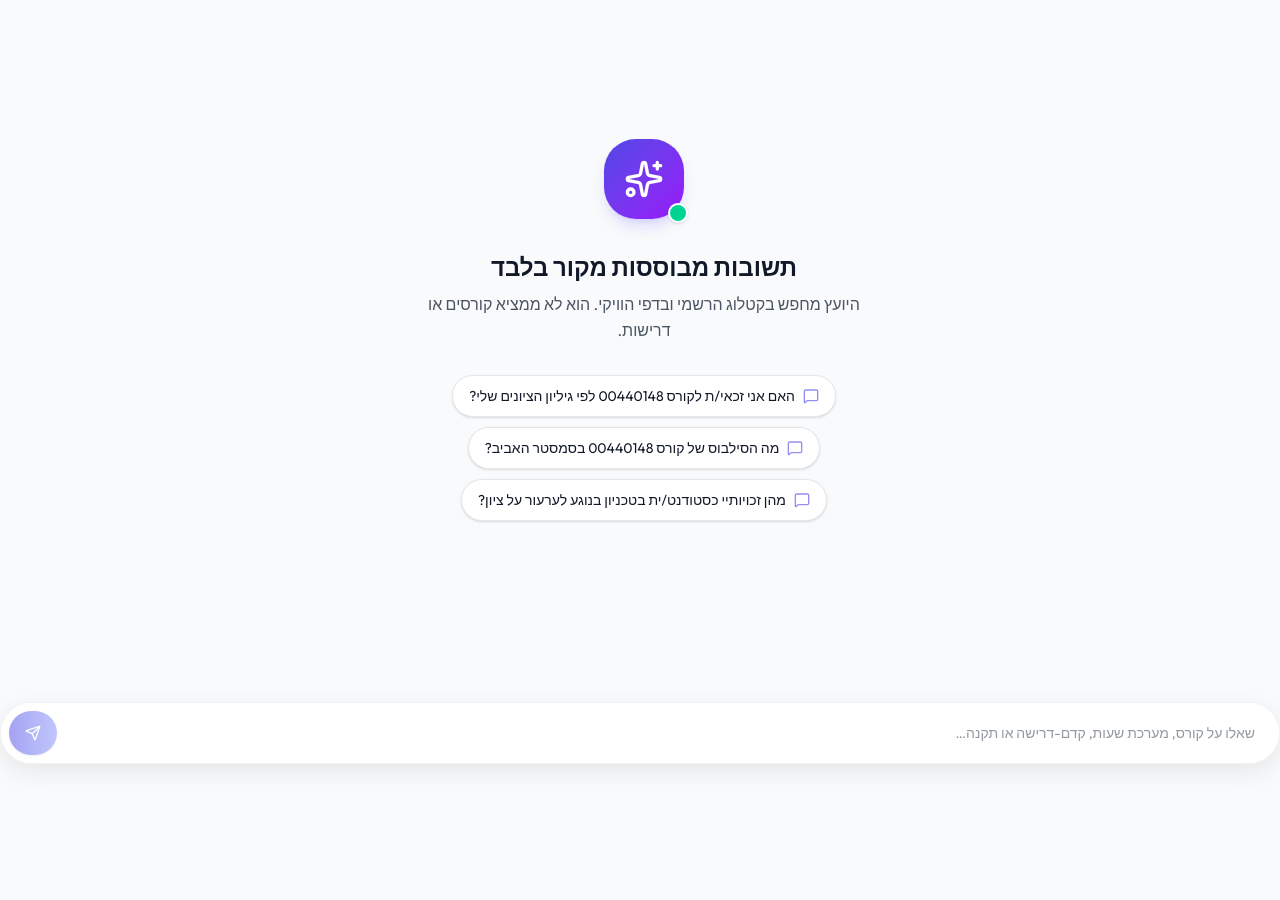
Test: AdvisorPage › shows a translated message when the stream fails before any answer
Type "How many credits do I have left?" into the field with test id "advisor-input". click: (668, 733)
box: left=65, top=711, right=1271, bottom=755
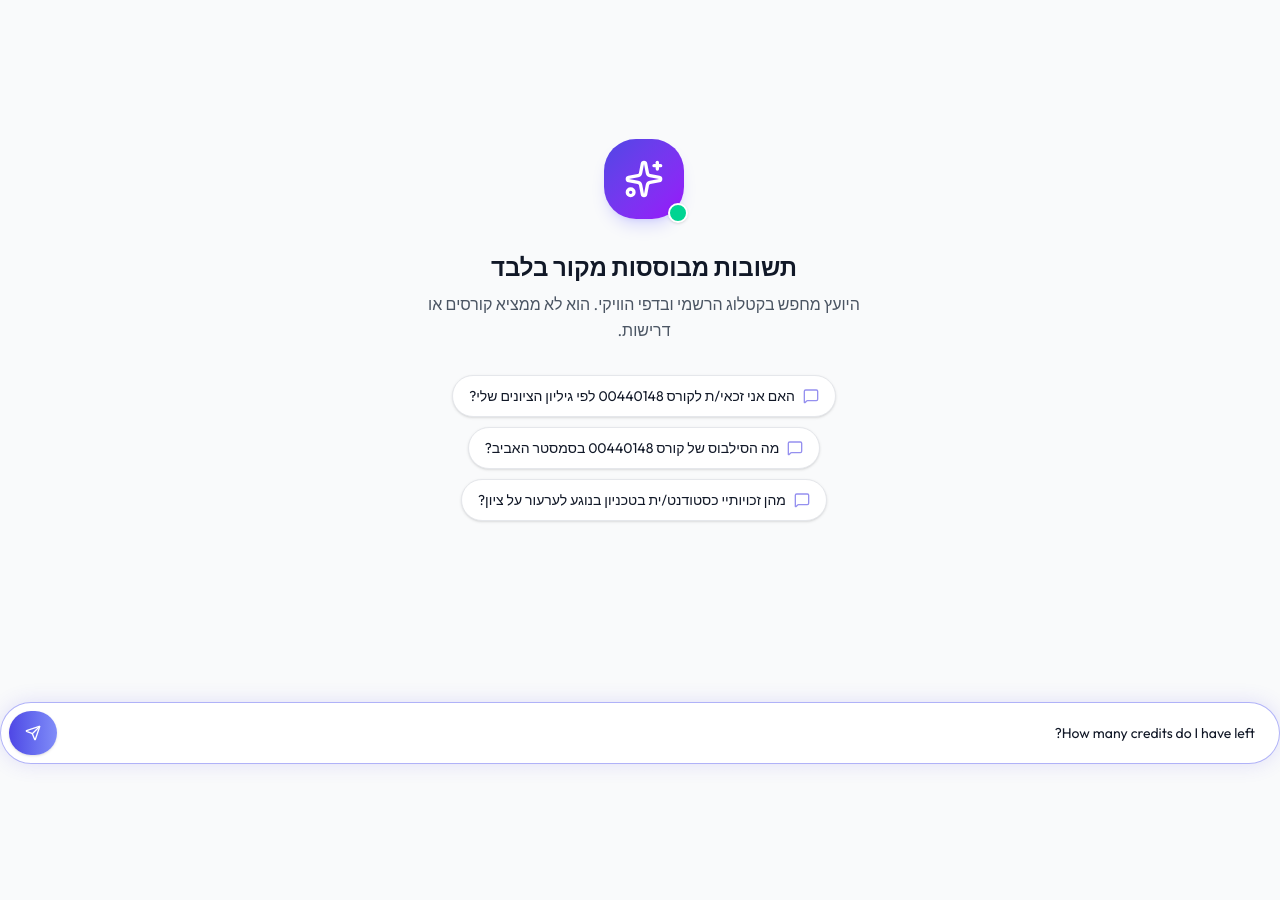
Click the button with test id "advisor-submit". click: (33, 733)
box: left=9, top=711, right=57, bottom=755
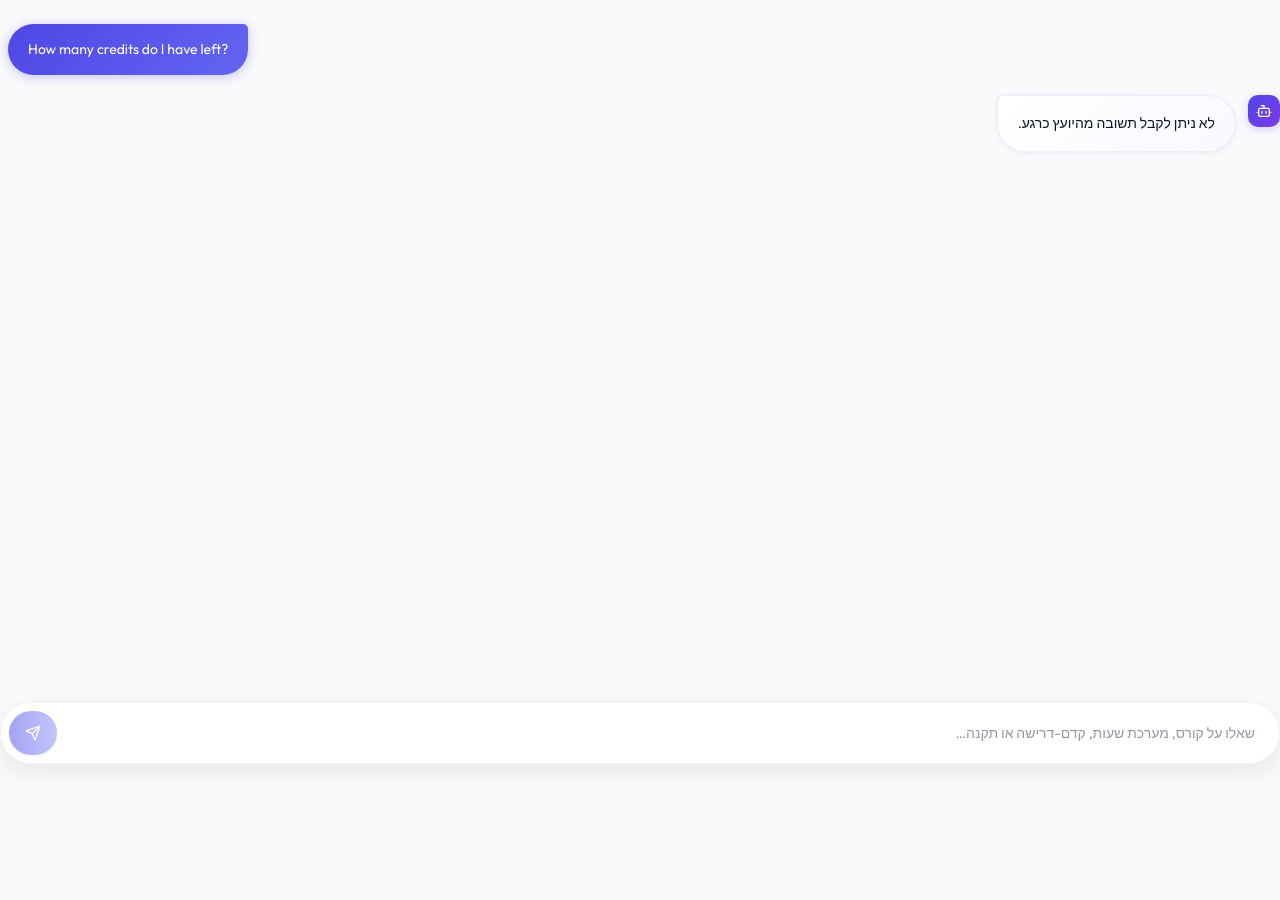
Expected: the text "לא ניתן לקבל תשובה מהיועץ כרגע." is shown, left=1018, top=112, right=1215, bottom=135
